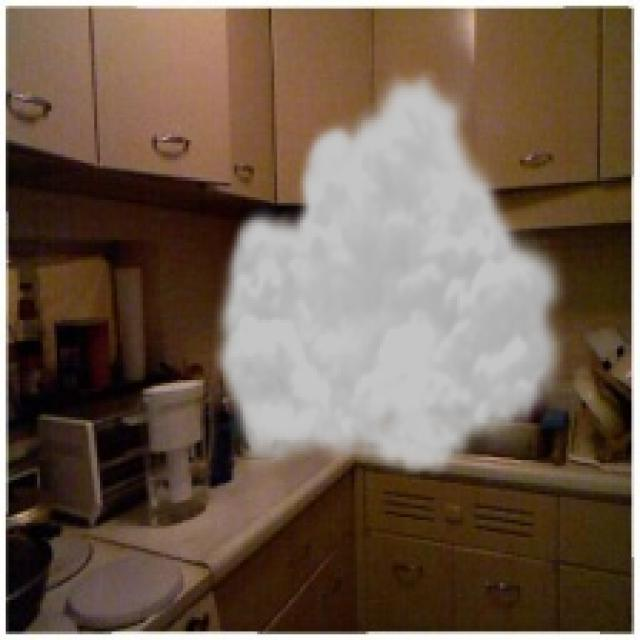smoke: (209, 63, 574, 480)
